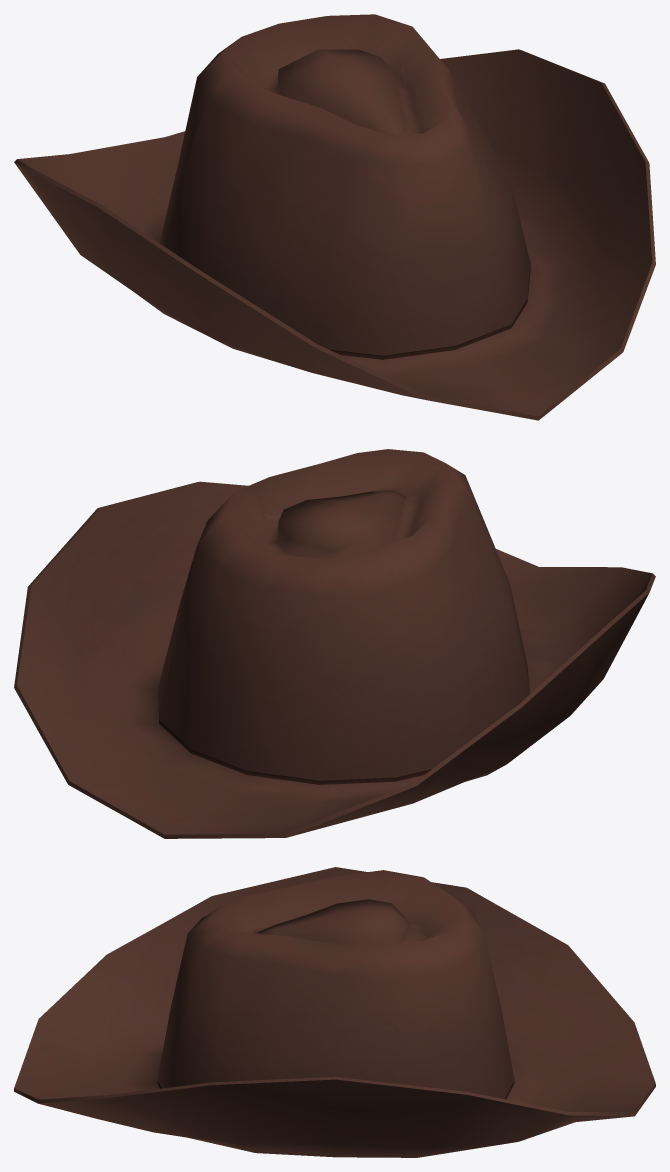
File: CowboyHat.FBX
3 views of the same model, one above another, from view 1: azimuth 30°, elevation 25°; view 2: azimuth 150°, elevation 25°; view 3: azimuth 270°, elevation 25° (orthographic). The views are drawn at different scales.
Visible parts, largest first — view 1: cowboyHat; view 2: cowboyHat; view 3: cowboyHat.
Part boxes in pixels (x1=…): cowboyHat: x1=14, y1=14, x2=655, y2=420; cowboyHat: x1=14, y1=449, x2=655, y2=838; cowboyHat: x1=14, y1=867, x2=655, y2=1157.
Size of the model in its own units: 51.55 by 20.85 by 65.81.
Materials: 1 (1 with a texture image).
